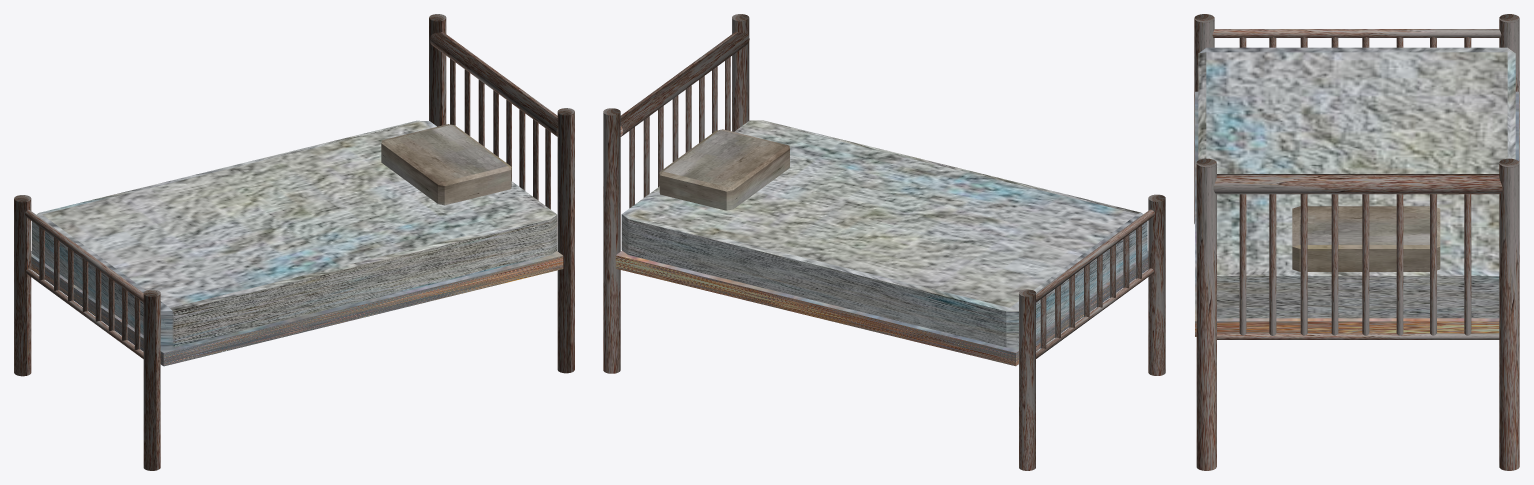
Rendered from Bed222.fbx.
3 views of the same model, side by side, from view 1: azimuth 30°, elevation 25°; view 2: azimuth 150°, elevation 25°; view 3: azimuth 270°, elevation 25° (orthographic). The views are drawn at different scales.
Visible parts, largest first — view 1: 立方体, Cube, 立方体.001, 円柱.001, 円柱.014, 円柱.013, 円柱.002, 円柱, 円柱.015, 円柱.003; view 2: 立方体, Cube, 立方体.001, 円柱, 円柱.014, 円柱.013, 円柱.002, 円柱.001, 円柱.015, 円柱.003; view 3: 立方体, 立方体.001, 円柱.001, 円柱, 円柱.002, Cube, 円柱.015, 円柱.012, 円柱.005, 円柱.006, 円柱.008, 円柱.009 (+6 smaller).
Boxes of the visible parts, x1,y1,x2,y2 form: 立方体: (32,120,557,347); Cube: (31,251,563,366); 立方体.001: (381,124,511,205); 円柱.001: (557,108,574,373); 円柱.014: (143,289,160,470); 円柱.013: (14,195,31,376); 円柱.002: (430,32,558,137); 円柱: (429,14,446,126); 円柱.015: (25,210,143,302); 円柱.003: (26,268,143,358); 立方体: (621,120,1147,347); Cube: (615,250,1148,366); 立方体.001: (659,129,789,210); 円柱: (603,108,620,373); 円柱.014: (1148,194,1165,375); 円柱.013: (1019,289,1035,470); 円柱.002: (620,32,749,136); 円柱.001: (732,14,749,131); 円柱.015: (1036,209,1154,302); 円柱.003: (1036,268,1153,358); 立方体: (1198,47,1515,318); 立方体.001: (1292,206,1440,271); 円柱.001: (1196,158,1216,470); 円柱: (1499,158,1519,470); 円柱.002: (1213,174,1502,194); Cube: (1195,91,1518,336); 円柱.015: (1212,29,1501,37); 円柱.012: (1216,333,1499,339); 円柱.005: (1269,194,1276,335); 円柱.006: (1300,194,1307,335); 円柱.008: (1362,194,1369,335); 円柱.009: (1396,194,1403,335).
Bounding box in the file's own units: 312 × 179 × 174.
4 materials, 4 textured.
